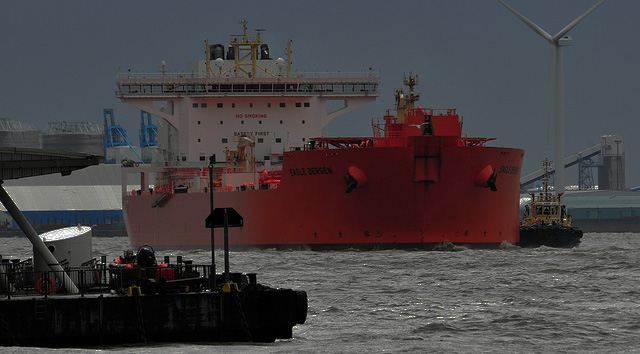tanker: (119, 21, 525, 249)
tug_boat: (521, 152, 587, 247)
